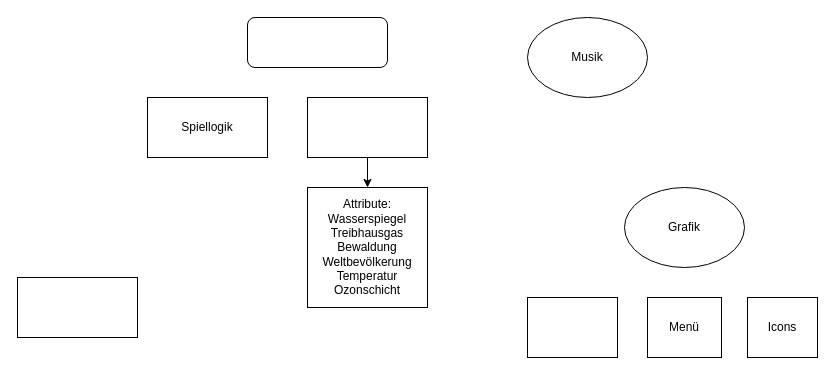
The diagram is 835 pixels wide and 375 high, and some of its shapes have lost their labels. Each missing label, with the box of its shape:
Erde: (306, 96, 428, 158)
Erdulator: (246, 16, 388, 68)
Logo: (526, 296, 618, 358)
